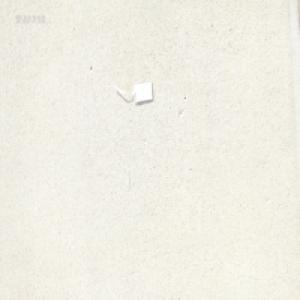LuggageTag: (112, 79, 153, 105)
